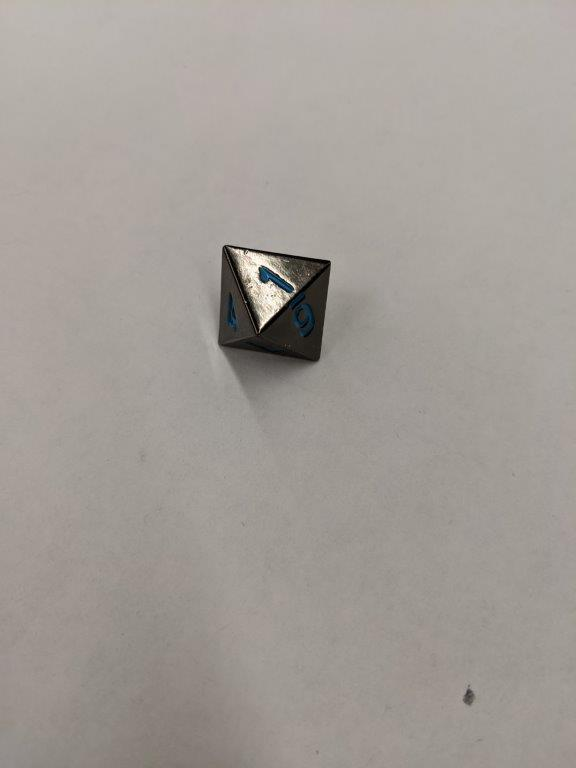d8-1: (214, 242, 333, 363)
